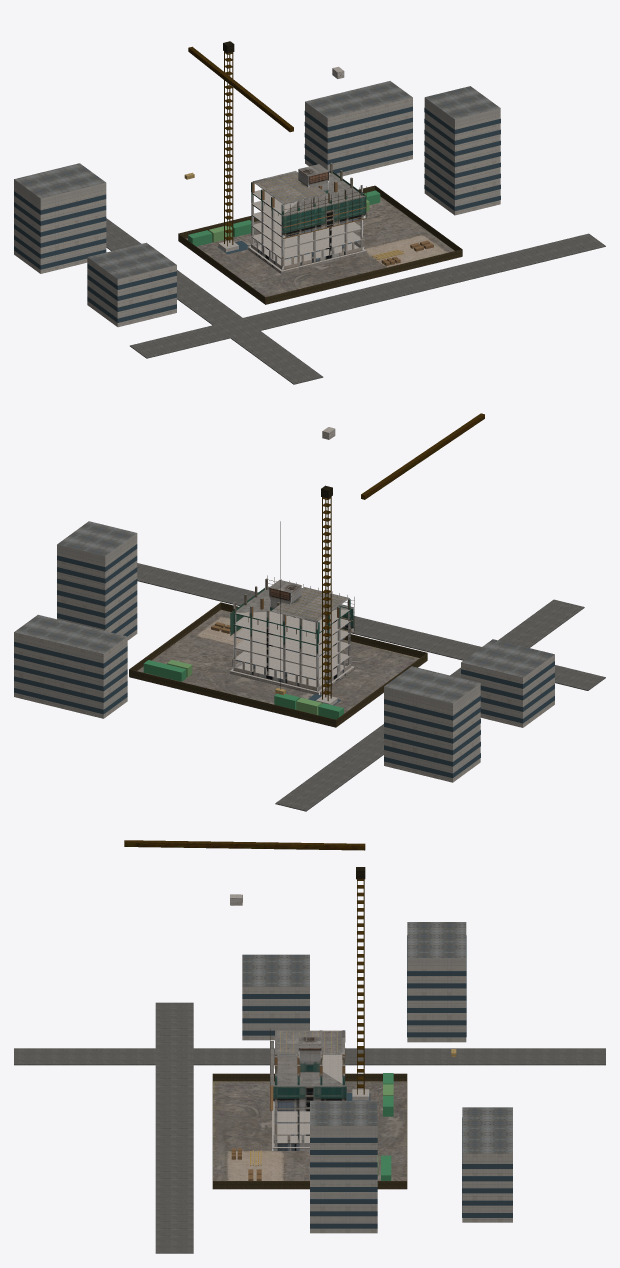
File: tower-m4.glb
3 views of the same model, one above another, from view 1: azimuth 30°, elevation 25°; view 2: azimuth 150°, elevation 25°; view 3: azimuth 270°, elevation 25° (orthographic). The views are drawn at different scales.
Visible parts, largest first — view 1: Ground_NeighbourPBR, Ground_AsphaltPBR, Ground_GlassPBR, SitePad, Ground_FencePBR, Crane_CranePBR, F06_PlywoodPBR, Slab_4, Slab_0, Raft, Slab_1, F05_NetPBR (+5 smaller); view 2: Ground_NeighbourPBR, Ground_GlassPBR, Ground_AsphaltPBR, SitePad, Ground_FencePBR, Crane_CranePBR, F06_PlywoodPBR, Slab_4, Ground_ContainerPBR, Slab_3, Slab_1, Slab_2 (+4 smaller); view 3: Ground_NeighbourPBR, Ground_AsphaltPBR, SitePad, Ground_GlassPBR, Crane_CranePBR, Ground_FencePBR, F06_PlywoodPBR, Slab_4, GravelYard, F05_NetPBR, Ground_ContainerPBR, CoreForm_6 (+1 smaller).
Boxes of the visible parts, <box> form: Ground_NeighbourPBR: <box>14,81,500,327</box>; Ground_AsphaltPBR: <box>106,218,605,384</box>; Ground_GlassPBR: <box>14,106,500,322</box>; SitePad: <box>178,196,462,304</box>; Ground_FencePBR: <box>178,185,462,304</box>; Crane_CranePBR: <box>188,46,293,246</box>; F06_PlywoodPBR: <box>251,171,365,216</box>; Slab_4: <box>251,173,363,215</box>; Slab_0: <box>251,232,362,259</box>; Raft: <box>247,243,366,274</box>; Slab_1: <box>251,222,363,248</box>; F05_NetPBR: <box>282,171,365,227</box>; Ground_NeighbourPBR: <box>14,521,554,782</box>; Ground_GlassPBR: <box>14,544,554,778</box>; Ground_AsphaltPBR: <box>137,563,605,811</box>; SitePad: <box>129,609,427,727</box>; Ground_FencePBR: <box>129,602,427,726</box>; Crane_CranePBR: <box>322,413,484,700</box>; F06_PlywoodPBR: <box>249,587,353,633</box>; Slab_4: <box>233,589,350,634</box>; Ground_ContainerPBR: <box>143,660,343,719</box>; Slab_3: <box>233,616,350,645</box>; Slab_1: <box>233,639,350,668</box>; Slab_2: <box>233,628,350,657</box>; Ground_NeighbourPBR: <box>242,922,512,1233</box>; Ground_AsphaltPBR: <box>14,1002,605,1253</box>; SitePad: <box>213,1081,406,1189</box>; Ground_GlassPBR: <box>242,935,512,1228</box>; Crane_CranePBR: <box>124,840,365,1094</box>; Ground_FencePBR: <box>212,1073,407,1188</box>; F06_PlywoodPBR: <box>270,1030,345,1085</box>; Slab_4: <box>275,1054,344,1086</box>; GravelYard: <box>225,1151,276,1180</box>; F05_NetPBR: <box>273,1086,346,1098</box>; Ground_ContainerPBR: <box>381,1073,393,1180</box>; CoreForm_6: <box>298,1037,321,1060</box>.
Size of what is drawn, in the model's own units: 140 by 61 by 140.
24 materials, 23 textured.
